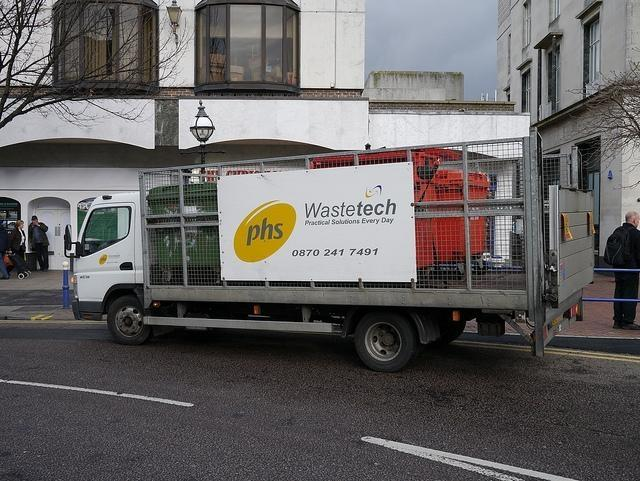truck: (64, 126, 594, 373)
